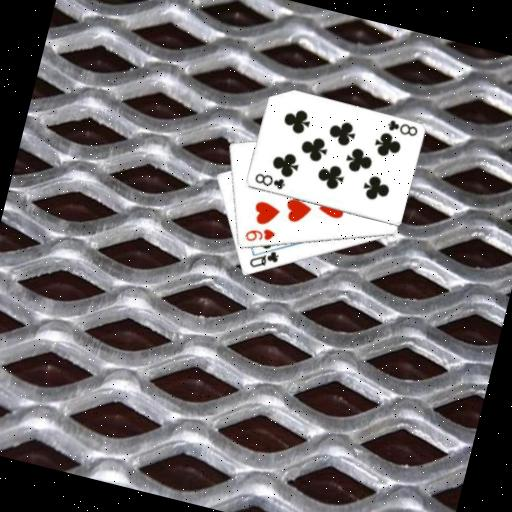8C: (383, 116, 421, 140), (251, 169, 288, 192)
9H: (241, 221, 279, 249)
QC: (245, 243, 282, 275)
